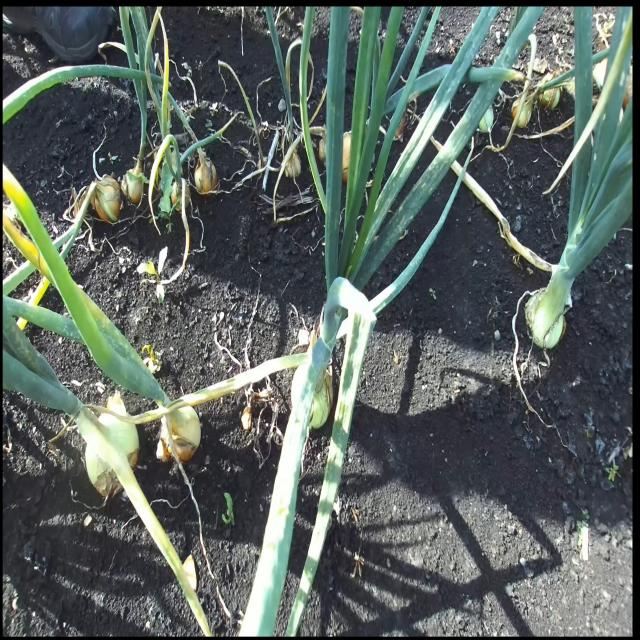onion: (75, 404, 140, 498), (157, 402, 201, 464), (91, 174, 123, 224), (120, 157, 149, 206), (194, 148, 218, 195), (512, 94, 532, 128)
